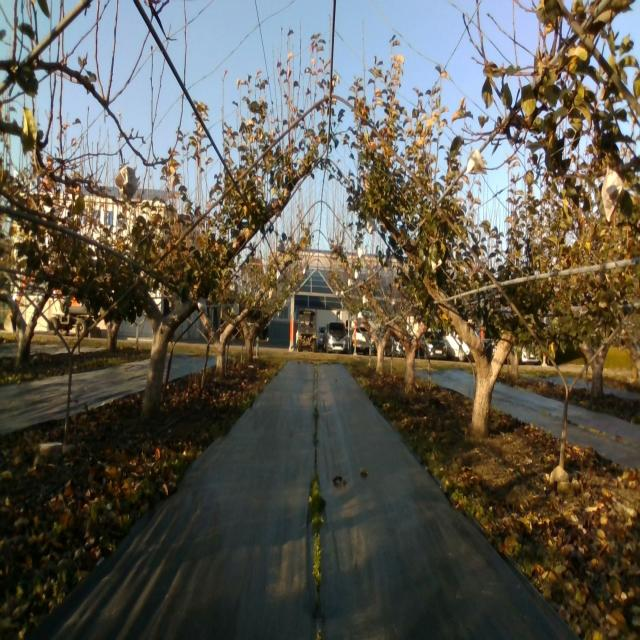pearbags: (602, 167, 624, 224), (116, 163, 138, 206), (466, 148, 487, 176), (365, 217, 378, 234)
